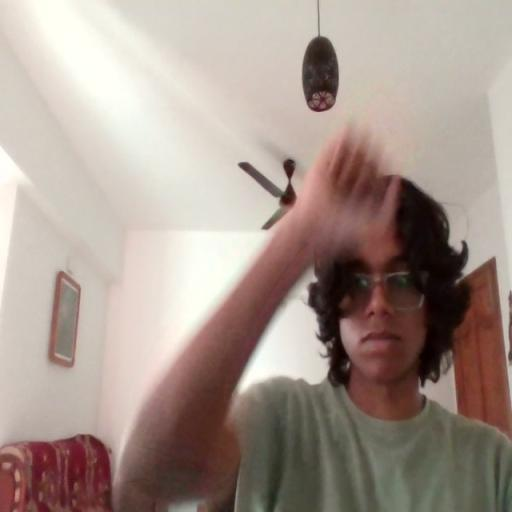Rock: (285, 134, 399, 249)
